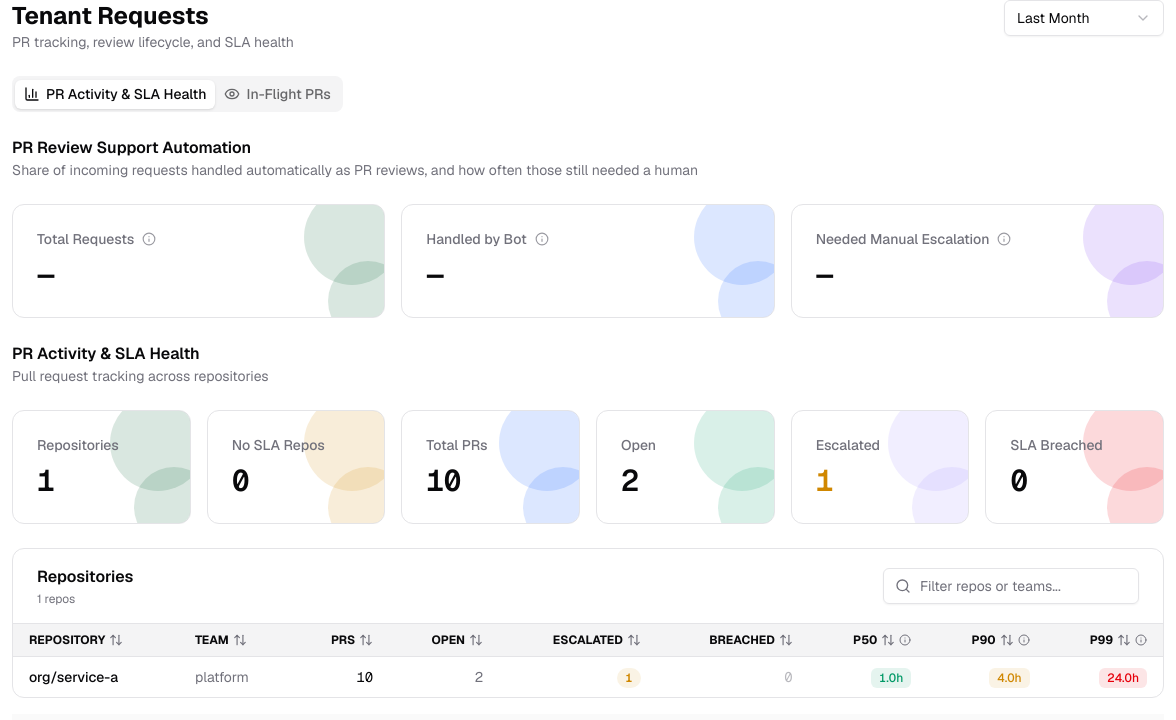
Scenario: TenantRequestsPage › Empty State › should show search-specific empty message when filter has no matches
Type "nonexistent" into the field with placeholder "Filter repos or teams...".
click(1011, 586); type("nonexistent")  # box [883, 568, 1139, 604]
(page scrolled)
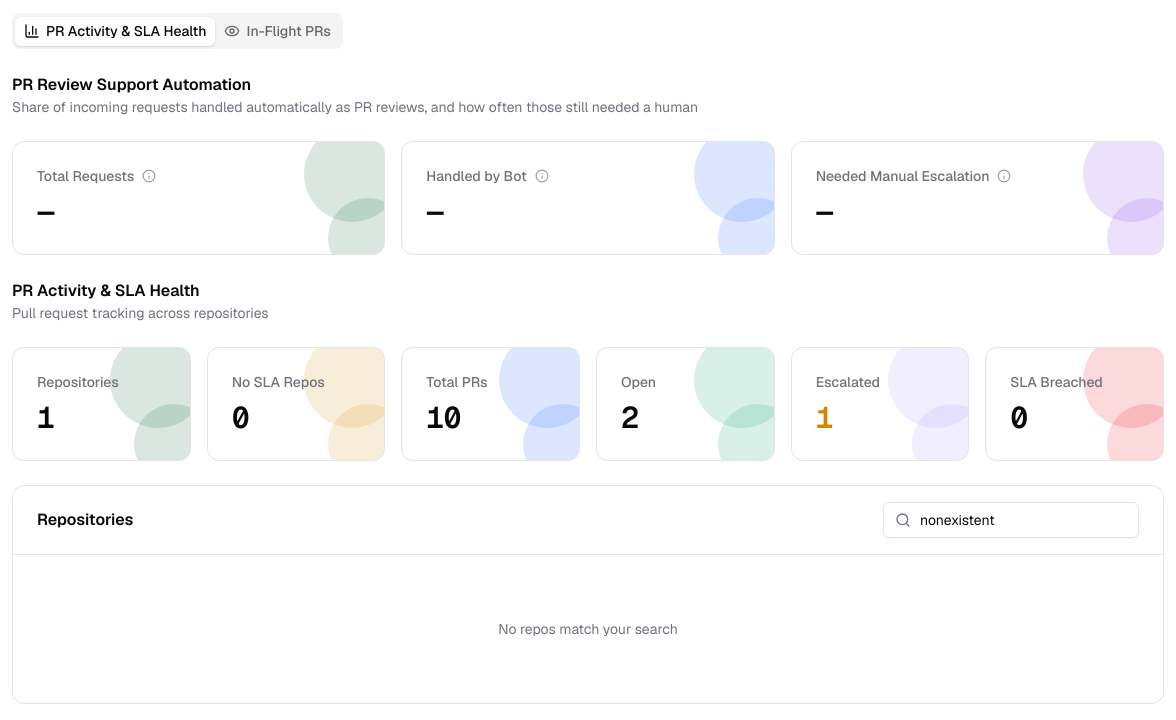
Now the text "No repos match your search" is shown, box [498, 620, 678, 638]
